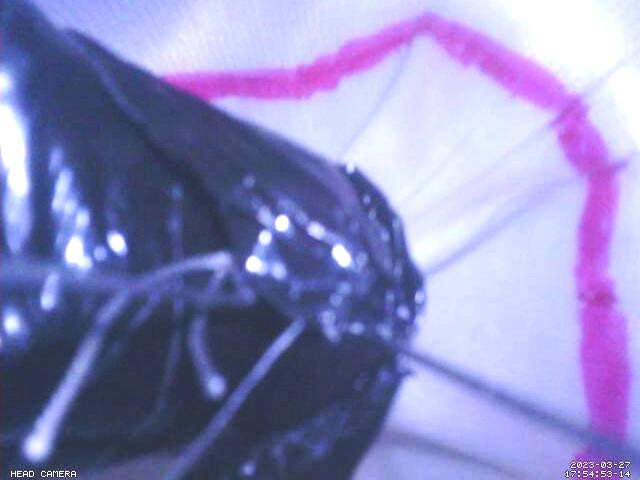red-circle: (163, 10, 634, 480)
